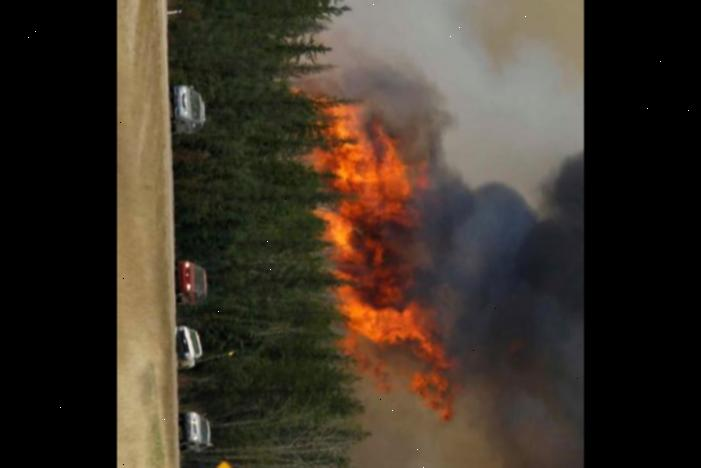fire: (298, 85, 466, 430)
